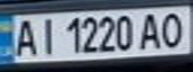0: (115, 11, 139, 52)
1: (60, 14, 84, 54)
2: (78, 12, 100, 54), (97, 12, 118, 54)
A: (9, 16, 39, 57), (136, 10, 166, 49)
I: (33, 15, 60, 56)
O: (157, 9, 190, 48)
